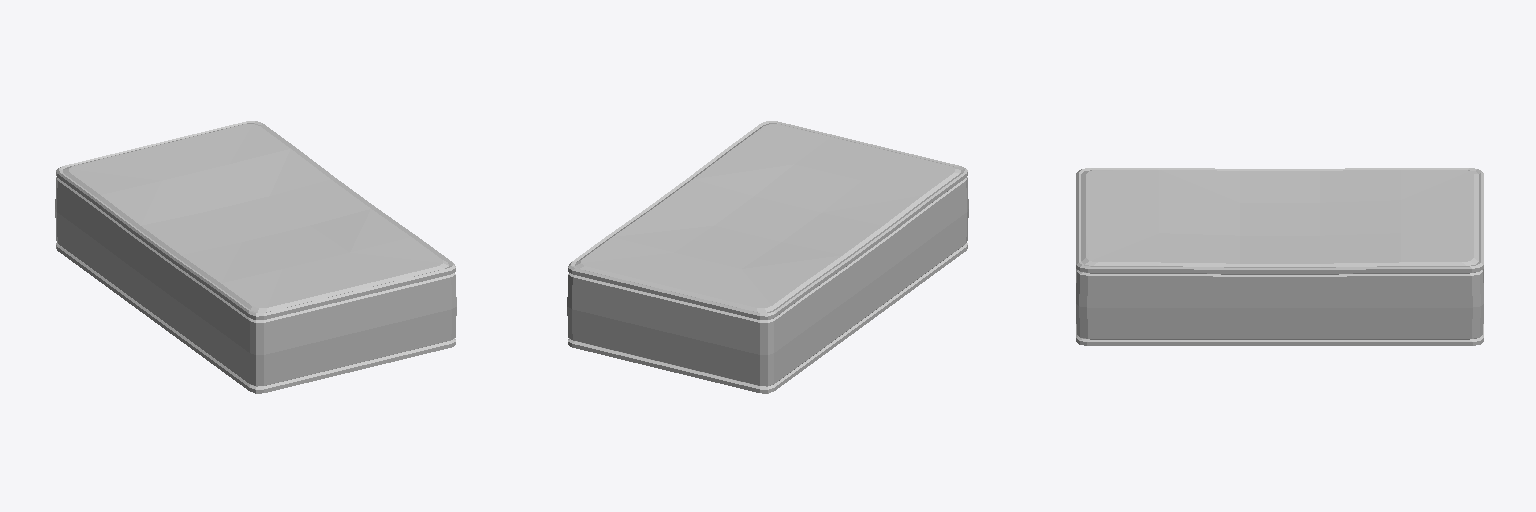
File: metress_Low.obj
3 views of the same model, side by side, from view 1: azimuth 30°, elevation 25°; view 2: azimuth 150°, elevation 25°; view 3: azimuth 270°, elevation 25° (orthographic).
Parts seen in each view (by area): view 1: Low; view 2: Low; view 3: Low.
Boxes of the visible parts, <box> form: Low: <box>55,121,456,393</box>; Low: <box>567,121,968,393</box>; Low: <box>1076,168,1483,345</box>.
Size of the model in its own units: 5.26 by 1.95 by 9.05.